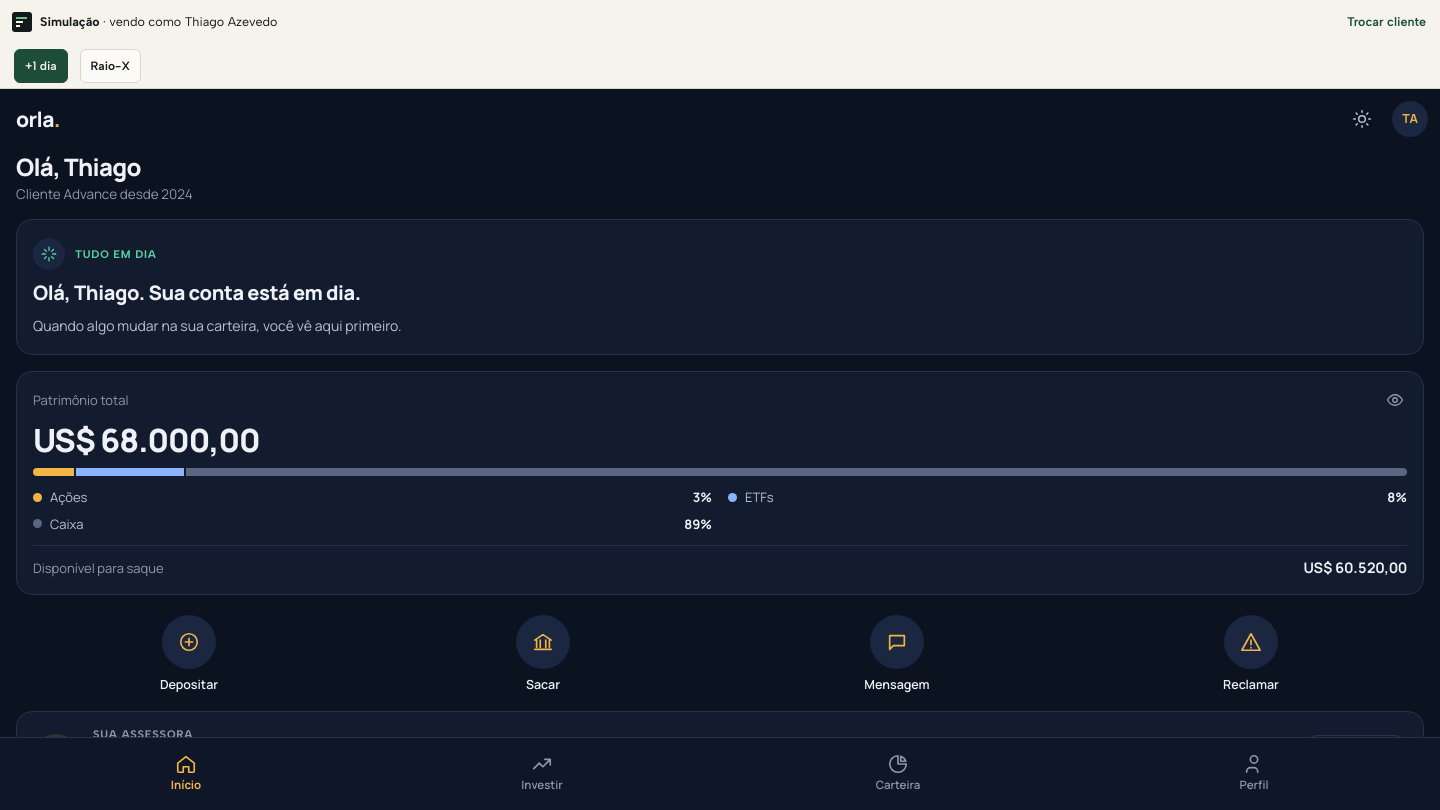
client app home from the screen route › masks money with the eye toggle
Click the button named "Esconder valores" at [1395, 400], box [1373,378,1417,422]
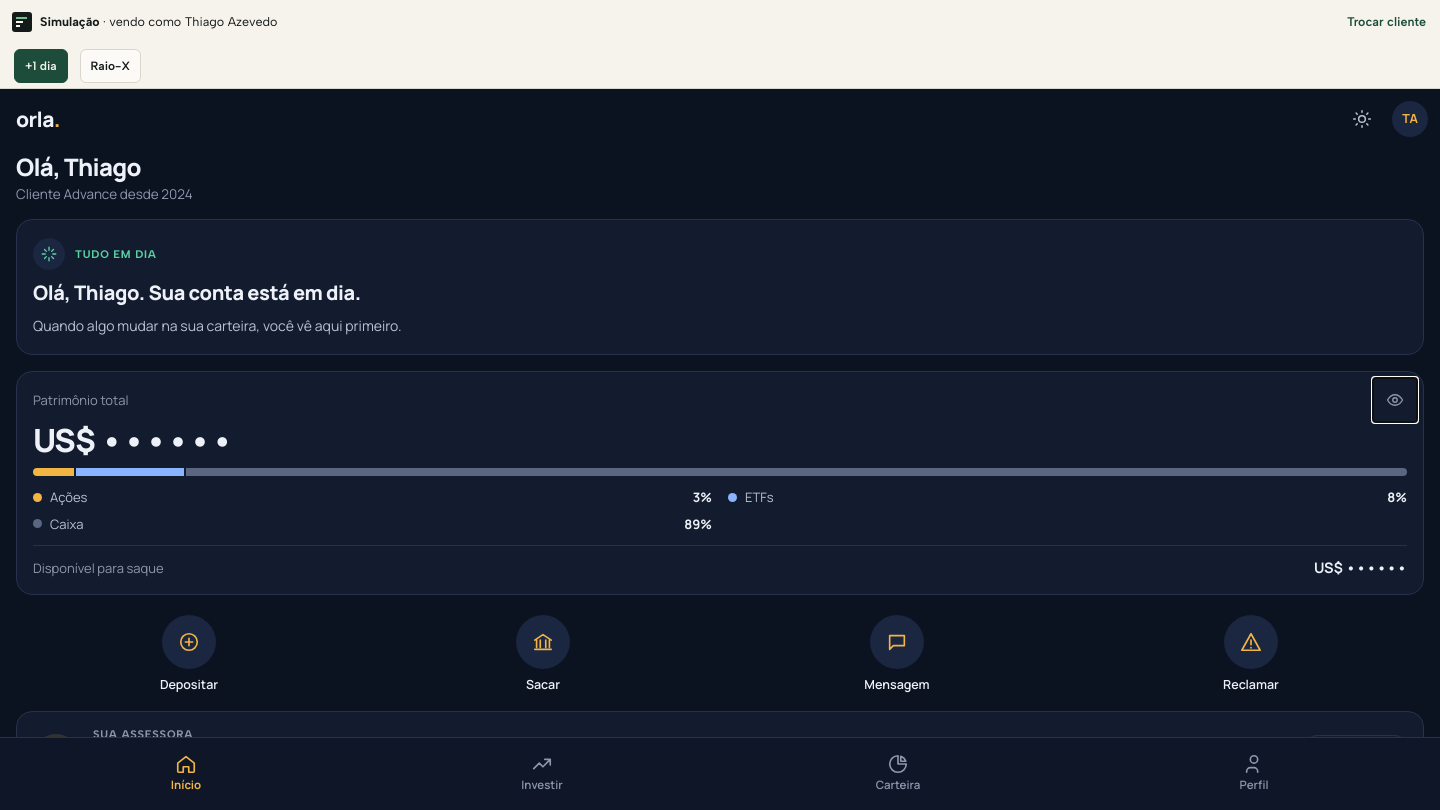
Check: the text "US$ ••••••" is shown 2 times, box [33,418,233,462]; [1314,558,1407,578]
Check: the text "US$ 68.000,00" is gone
Click the button named "Mostrar valores" at [1395, 400], box [1373,378,1417,422]
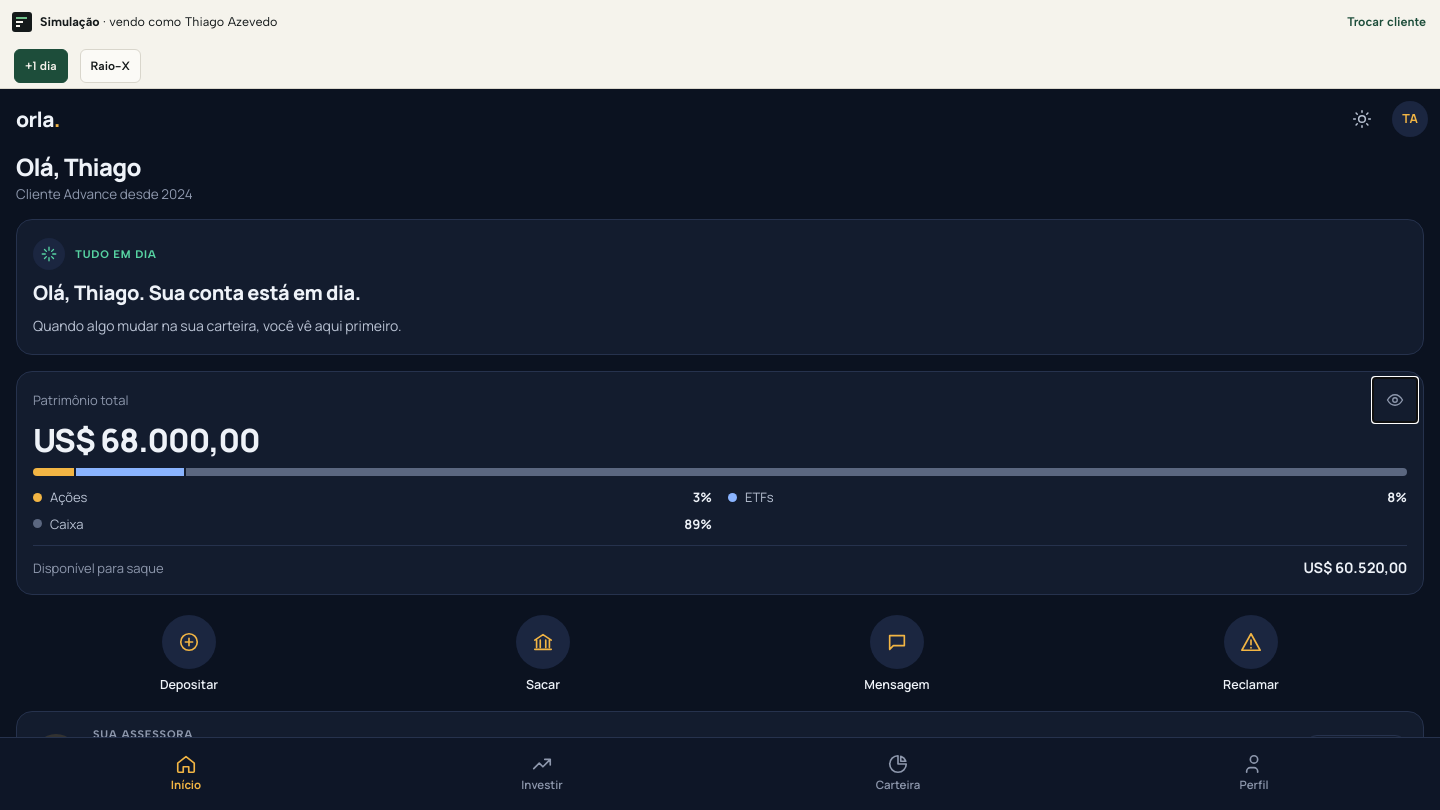
Check: the text "US$ 68.000,00" is shown, box [33,418,260,462]
